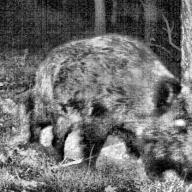boar: (19, 19, 192, 192)
